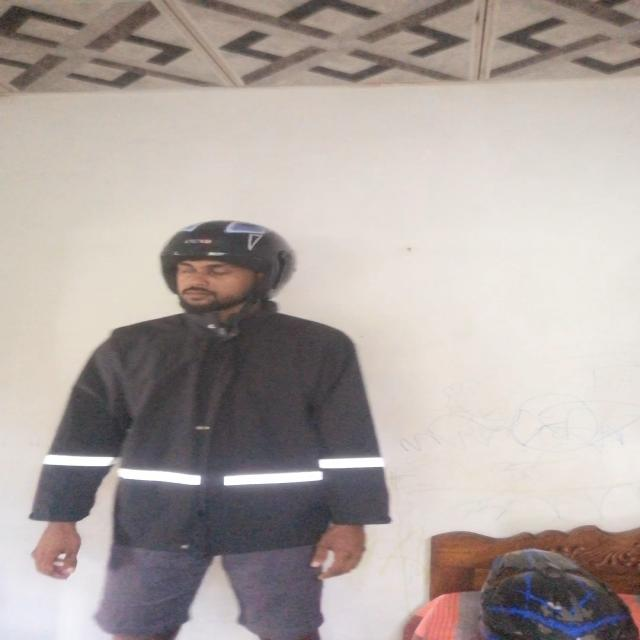Helmet_Wearer: (141, 216, 299, 327)
Jacket_Wearer: (52, 304, 390, 568)
Person: (61, 208, 382, 640)
